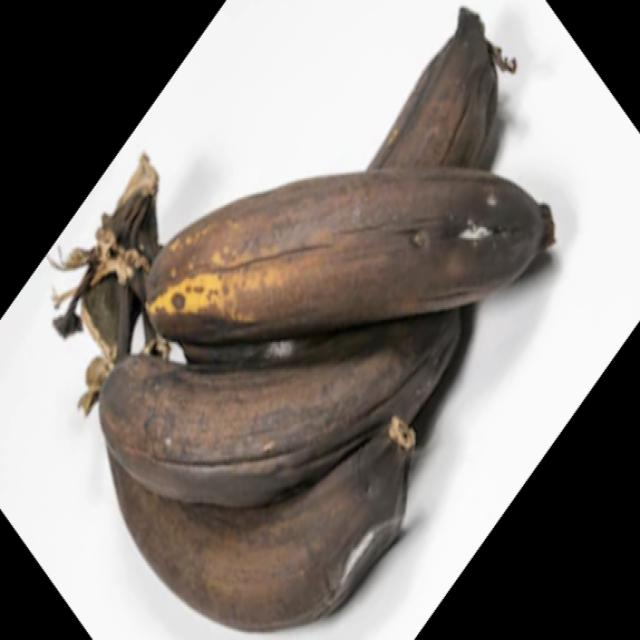Rotten: (139, 167, 556, 343)
